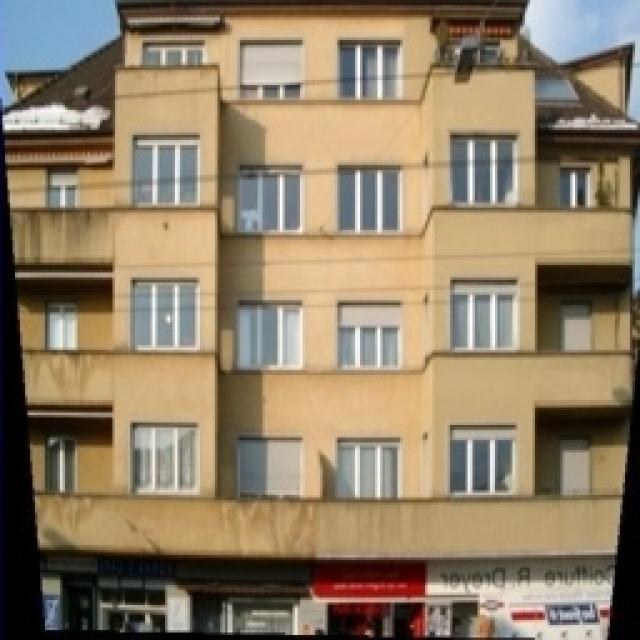Window: (450, 282, 518, 348), (134, 425, 198, 495), (134, 280, 198, 348), (452, 425, 516, 493), (454, 138, 518, 202), (338, 302, 400, 368), (137, 138, 200, 202), (242, 305, 302, 370), (338, 168, 400, 230), (240, 170, 300, 232), (340, 440, 400, 498), (242, 42, 302, 100), (340, 42, 400, 98), (240, 440, 300, 495), (142, 42, 202, 68), (47, 438, 75, 490), (562, 440, 588, 495), (48, 305, 78, 350), (562, 305, 590, 350), (562, 168, 590, 208), (52, 170, 78, 205)
